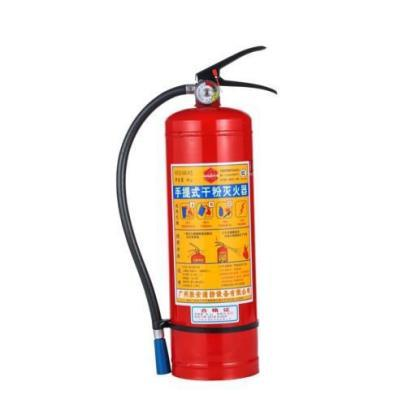Fire Extinguisher: (109, 38, 279, 393)
